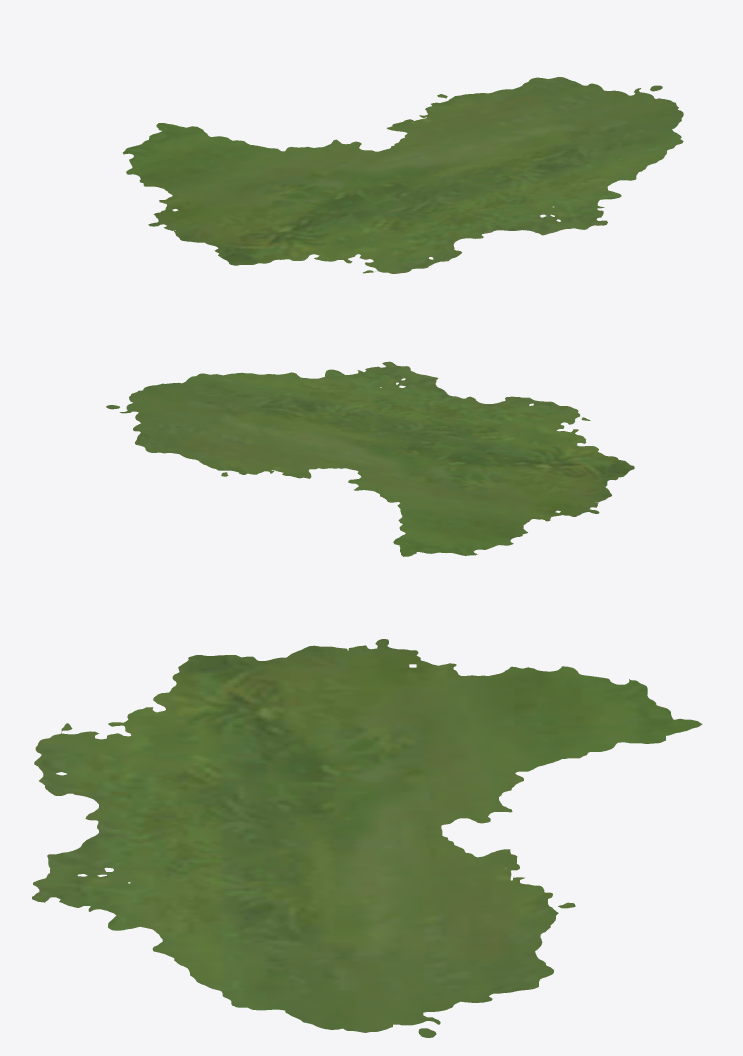
3 renders of one model, top to bottom at view 1: azimuth 30°, elevation 25°; view 2: azimuth 150°, elevation 25°; view 3: azimuth 270°, elevation 25°, orthographic. The views are drawn at different scales.
Parts seen in each view (by area): view 1: Mesh_39; view 2: Mesh_39; view 3: Mesh_39.
Boxes of the visible parts, x1,y1,x2,y2 form: Mesh_39: [123, 77, 683, 273]; Mesh_39: [106, 361, 634, 556]; Mesh_39: [32, 639, 702, 1037].
Bounding box in the file's own units: 3.48 × 1.53e-16 × 2.5.
